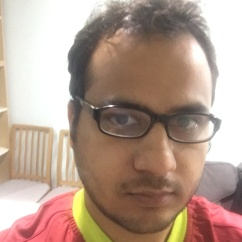glasses: (83, 100, 227, 143)
